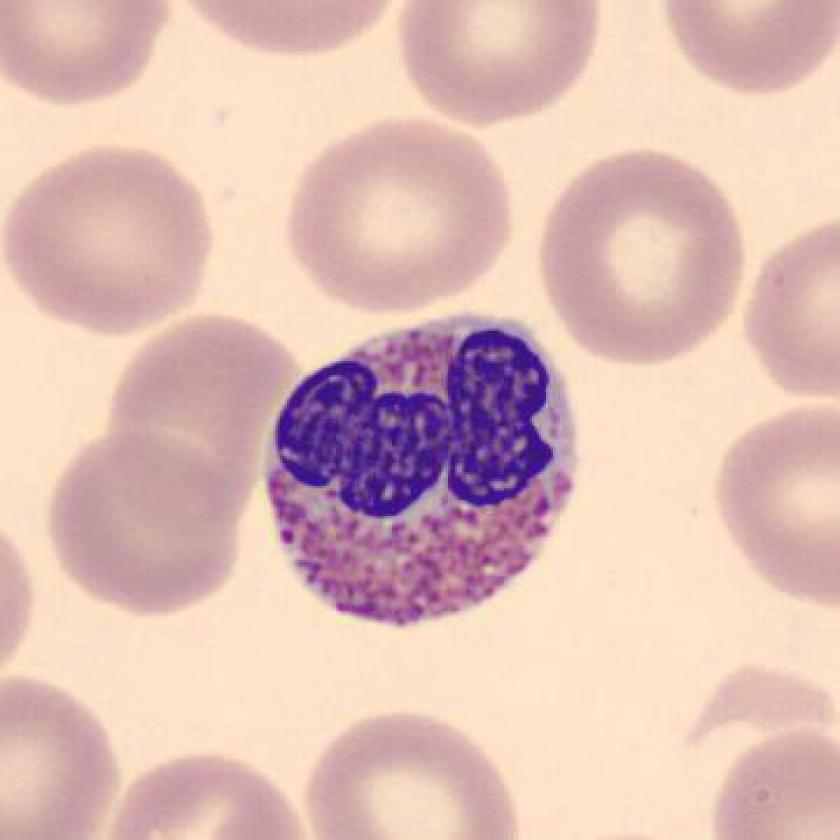eosinophil: (255, 302, 589, 635)
